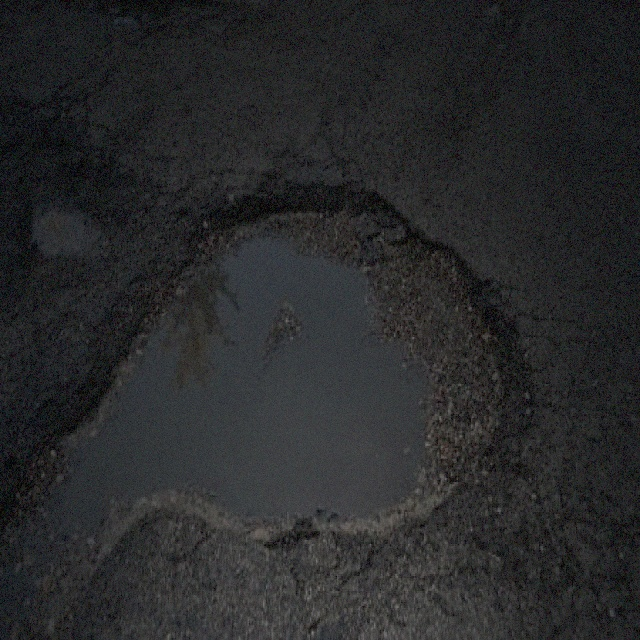pothole: (72, 168, 538, 550), (0, 119, 122, 266), (84, 0, 175, 28)
